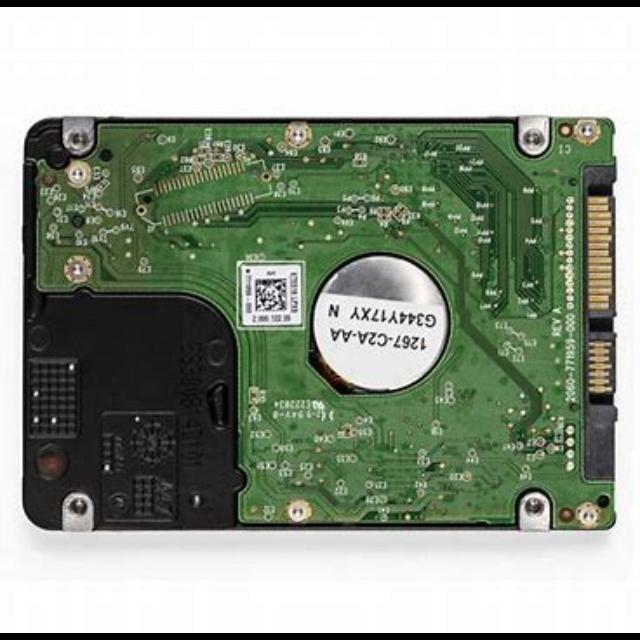HDD: (19, 115, 617, 536)
